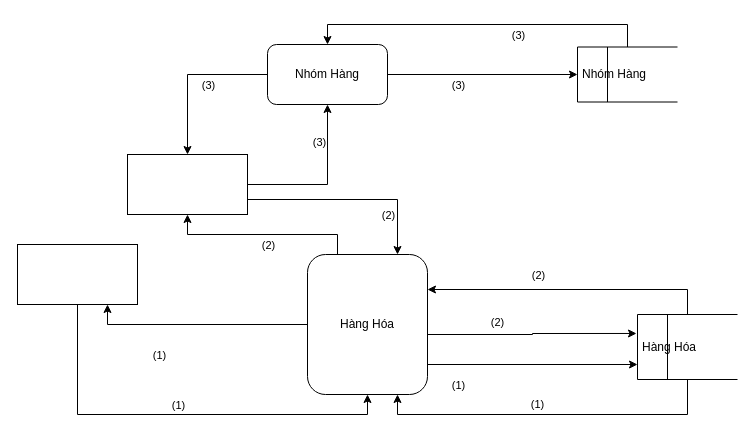
This 755x440 diagram has some shape labels left out. The centre of each missing label's shape, as x and y in pixels:
"Khách hàng" belongs at point 77,274.
"Nhà cung cấp" belongs at point 187,184.
